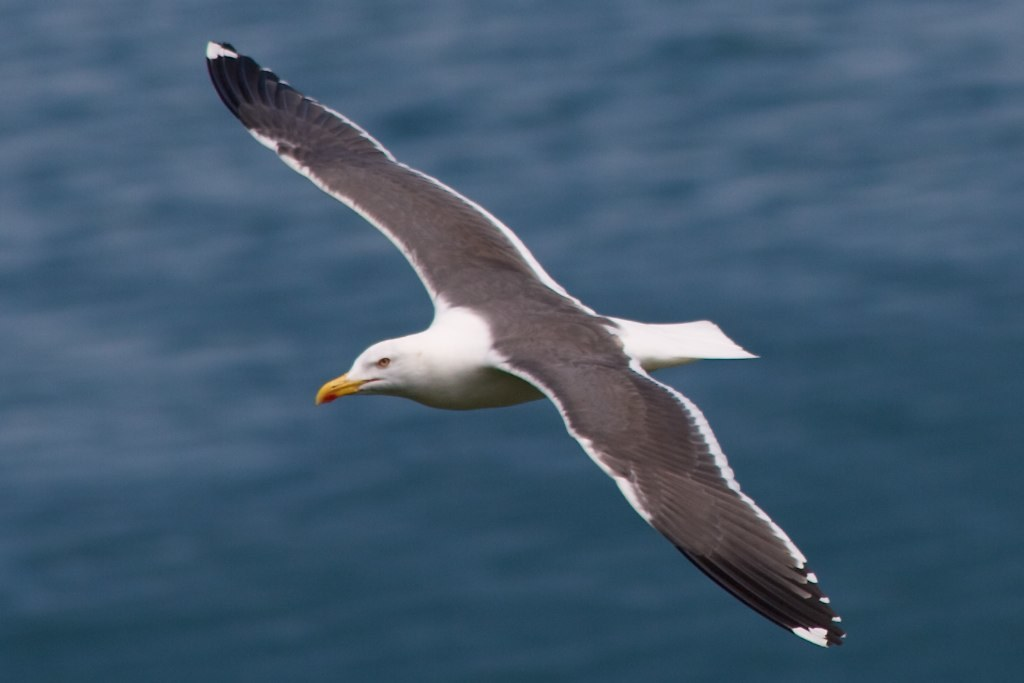Bird: (205, 39, 847, 648)
